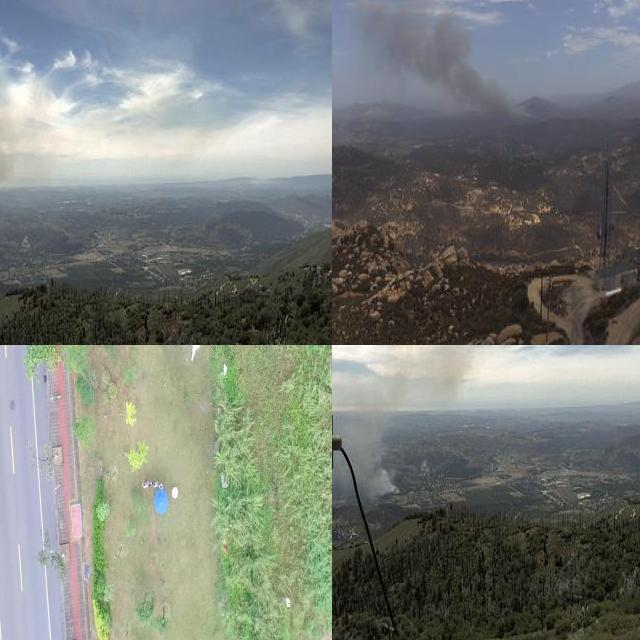smoke: (342, 0, 536, 142), (338, 345, 463, 496)
